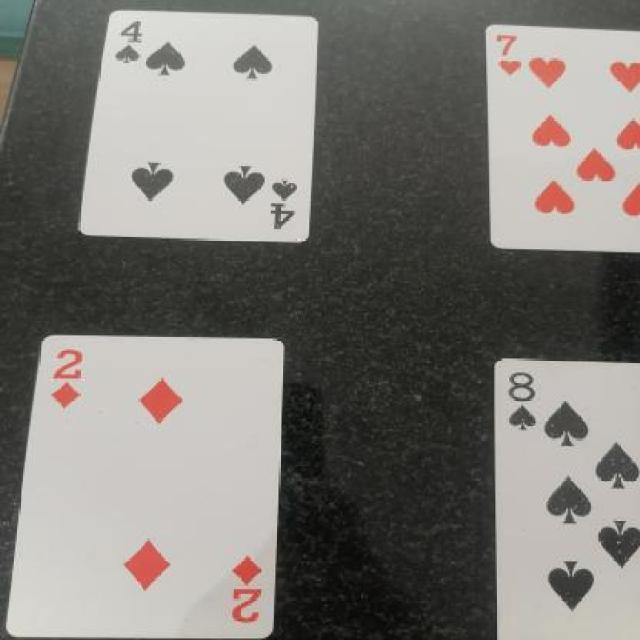2D: (31, 338, 108, 436)
4S: (109, 15, 168, 76)
7H: (488, 27, 546, 79)
8S: (497, 363, 545, 442)
